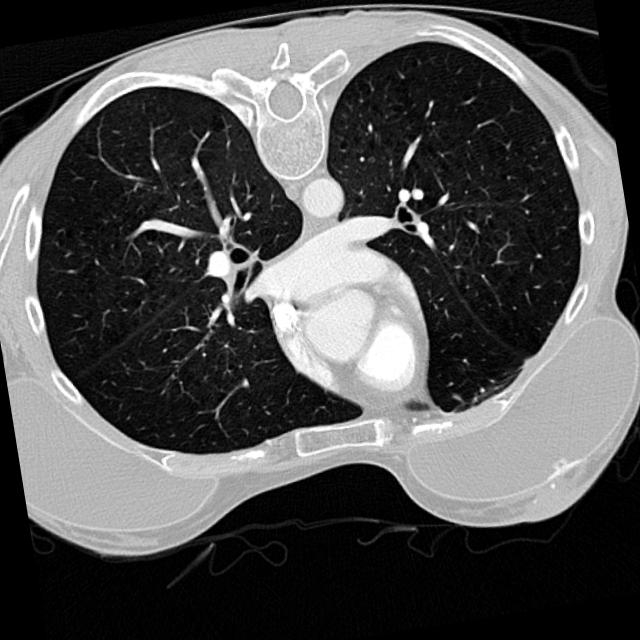nodule: (398, 178, 432, 212)
